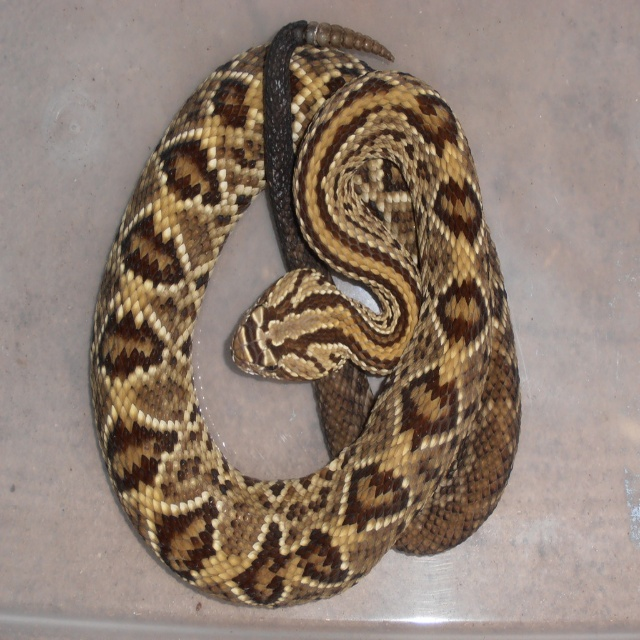Snake: (89, 17, 521, 610)
